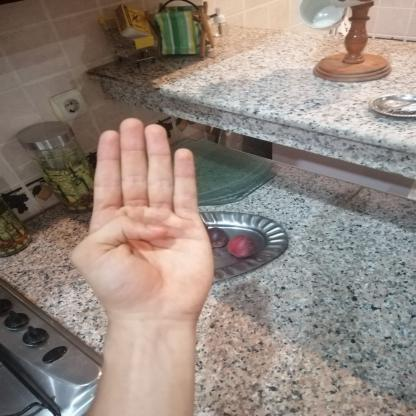KAAF: (54, 105, 230, 334)
